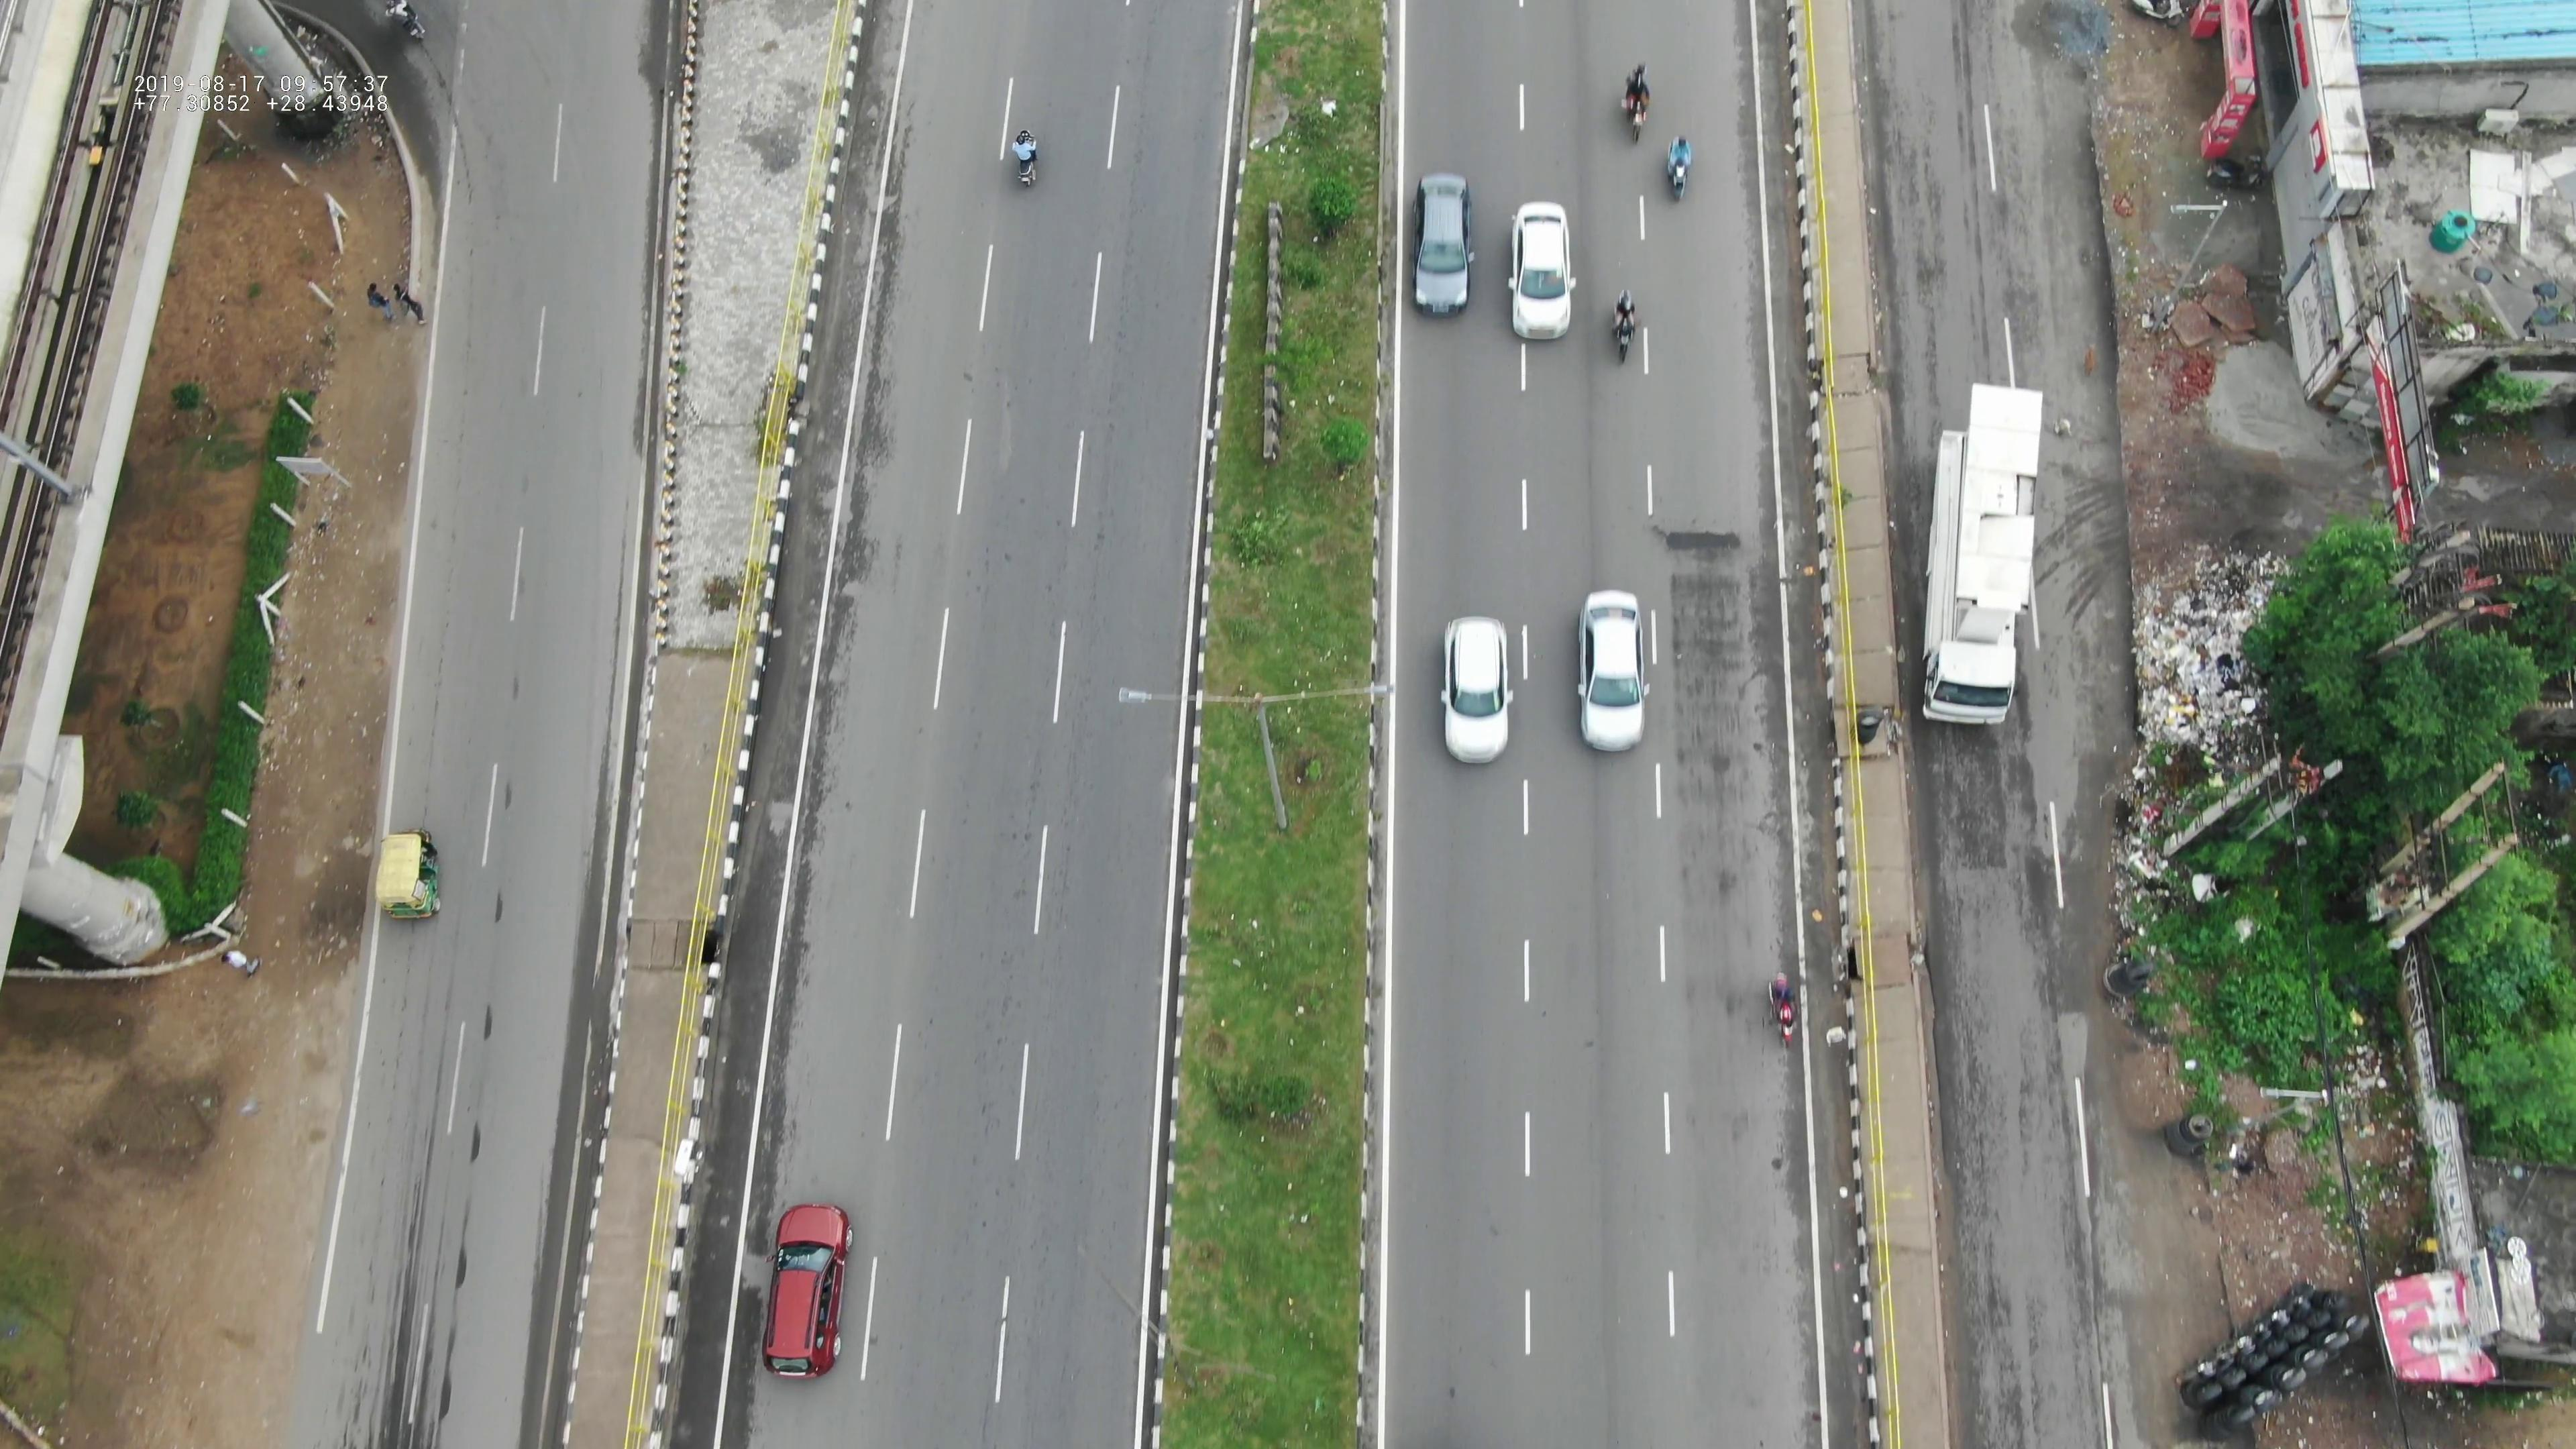Road_side_garbage: (2123, 541, 2259, 754)
